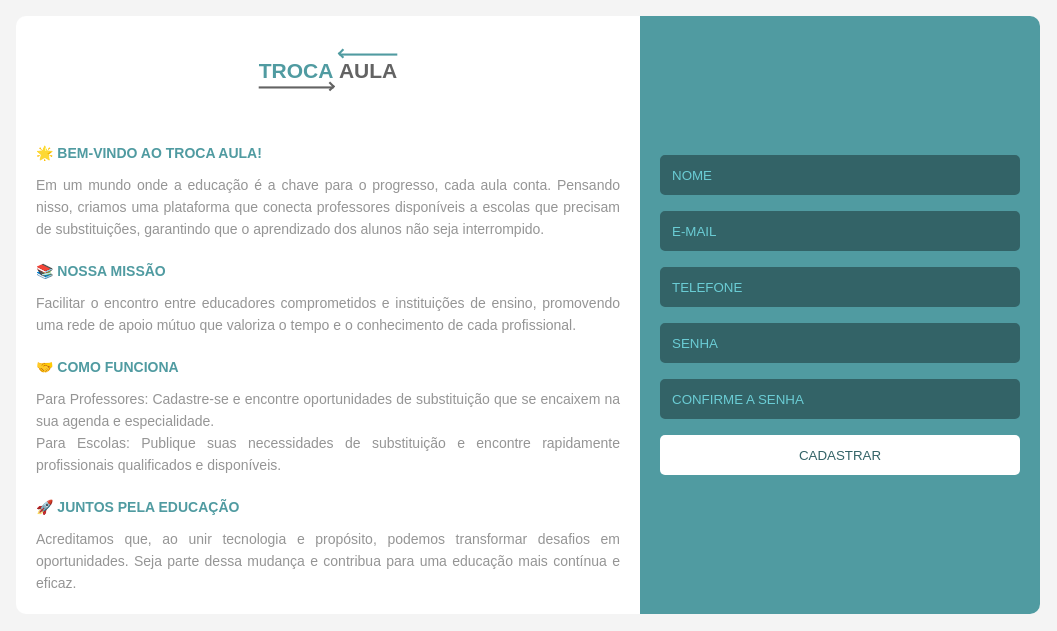
Test: Cadastro Page › shows error when passwords do not match
This screenshot has width=1057, height=631.
Step 1. Type "password123" into the password field with placeholder "senha" → (840, 343), box [660,323,1020,363]
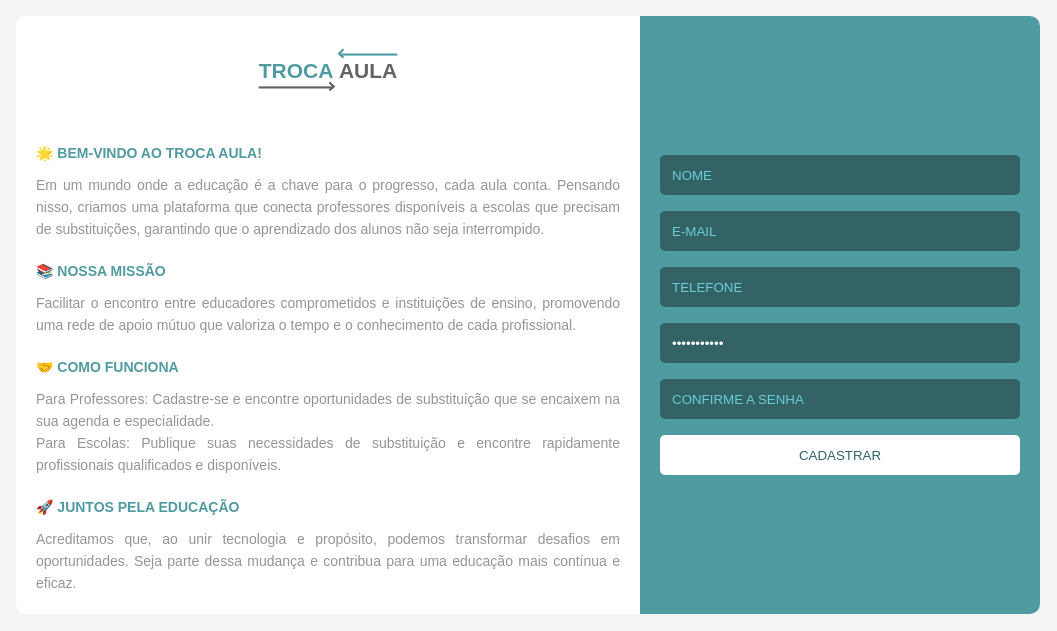
Step 2. Type "password456" into the password field with placeholder "confirme a senha" → (840, 399), box [660,379,1020,419]
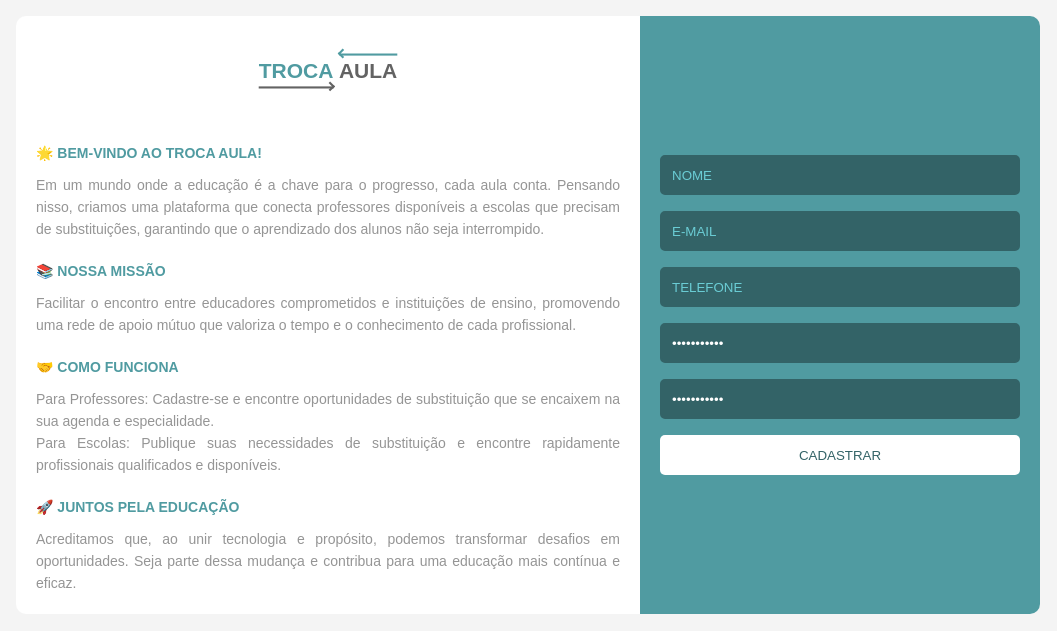
Step 3. Click the button "Cadastrar" → (840, 455), box [660,435,1020,475]
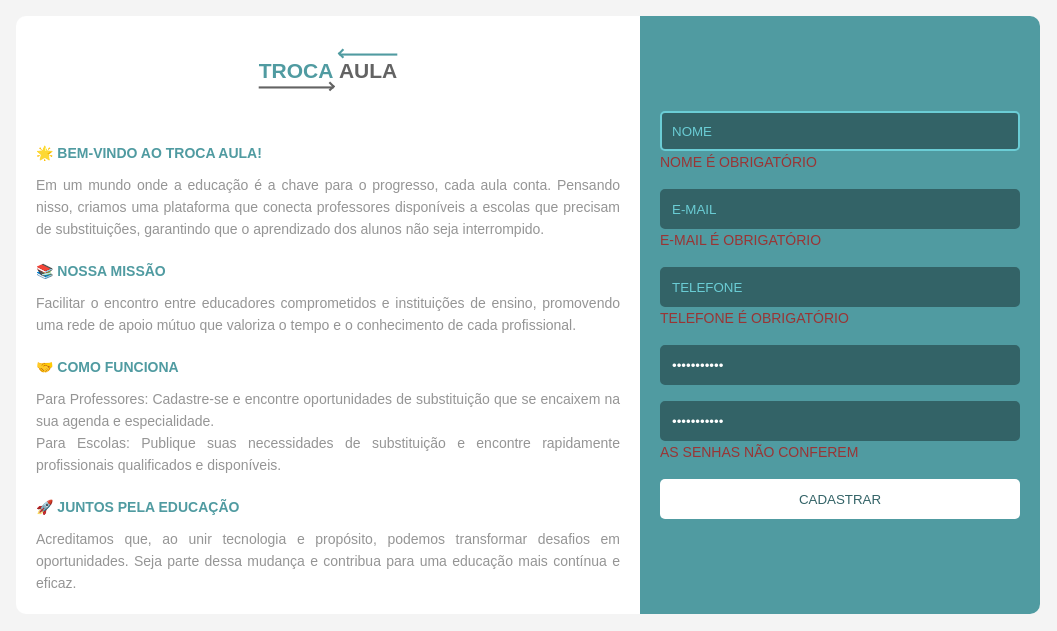
Result: the text "As senhas não conferem" is shown at [660,444,858,460]
